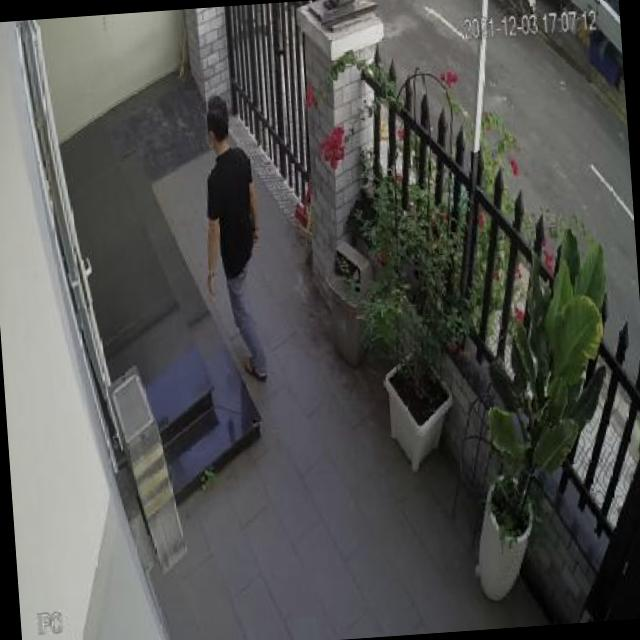Person: (194, 92, 270, 388)
